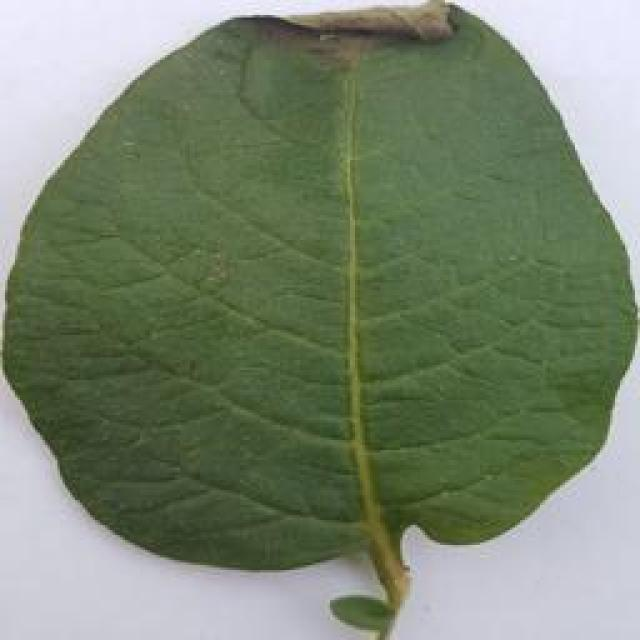Potato_Late_Blight: (8, 6, 636, 631)
